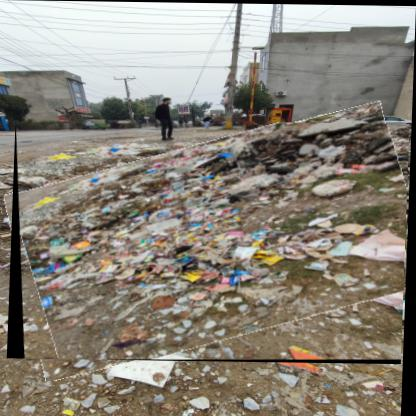Garbage: (11, 119, 413, 365)
